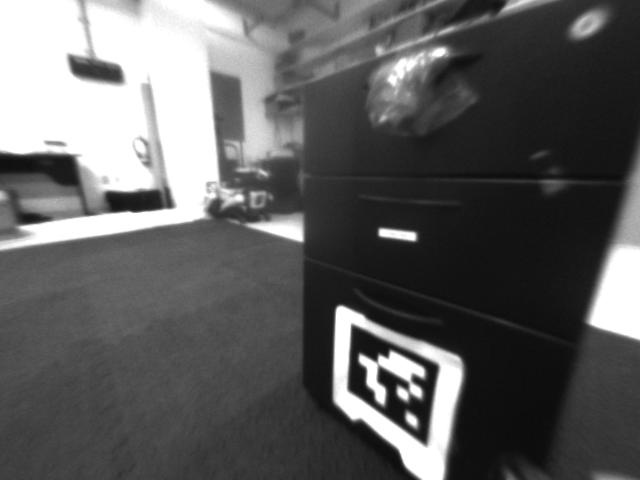drawer: (359, 51, 469, 145)
